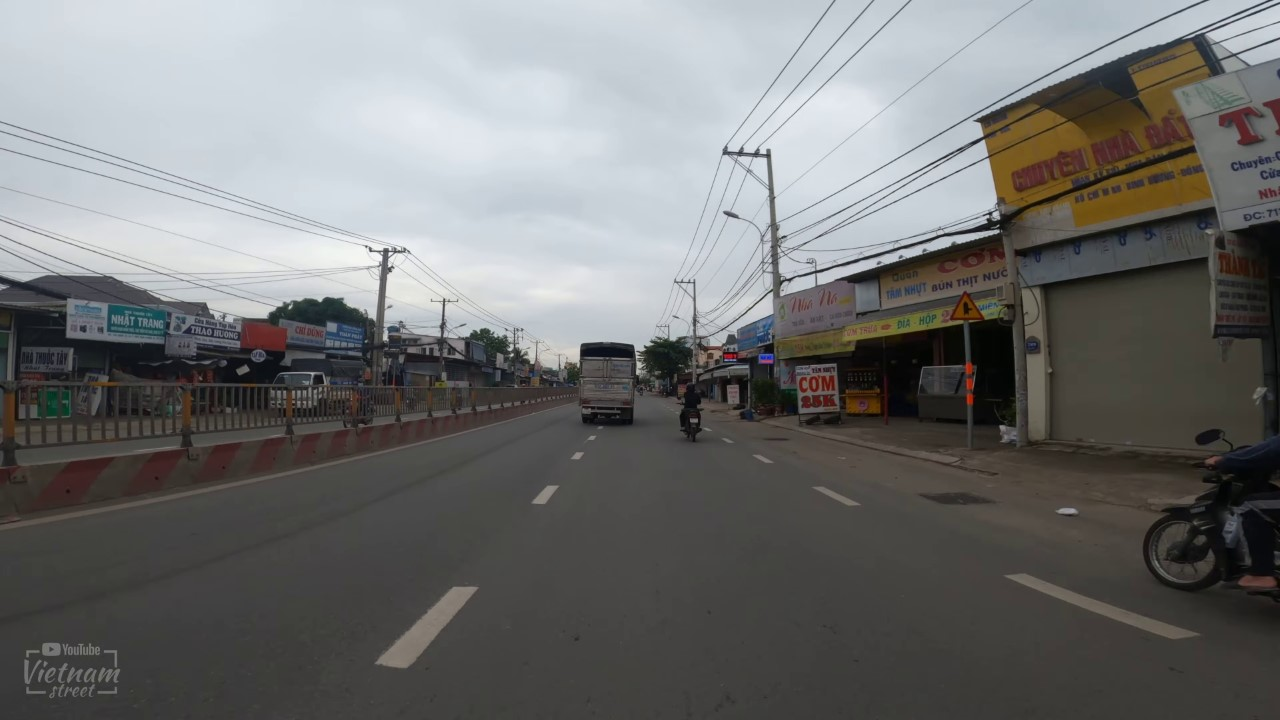giao_khong_uu_tien_phai: (947, 287, 986, 325)
